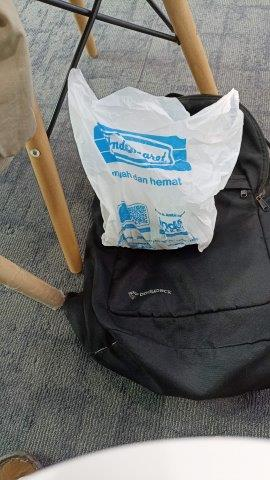plastik: (68, 68, 243, 250)
